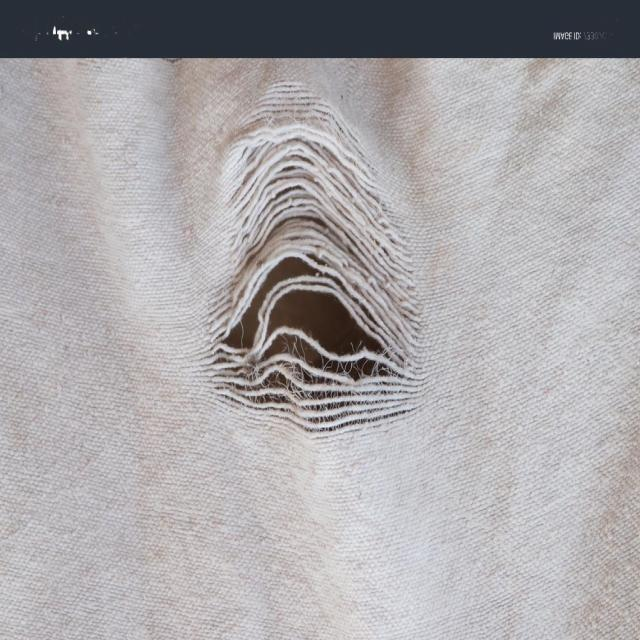Hole: (210, 84, 419, 432)
